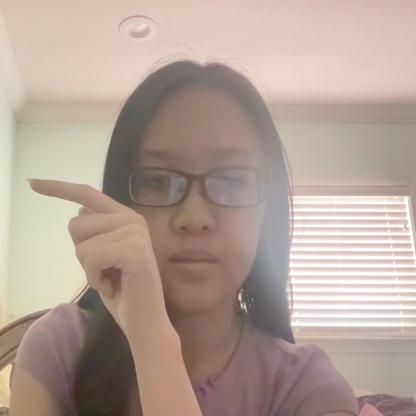finger_point: (22, 173, 129, 216)
